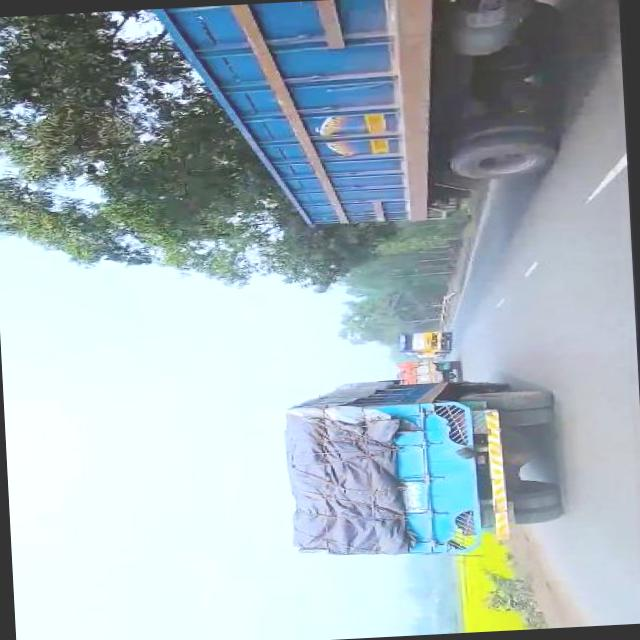truck: (159, 0, 560, 234), (276, 376, 560, 561), (395, 360, 460, 383), (395, 330, 448, 357)
